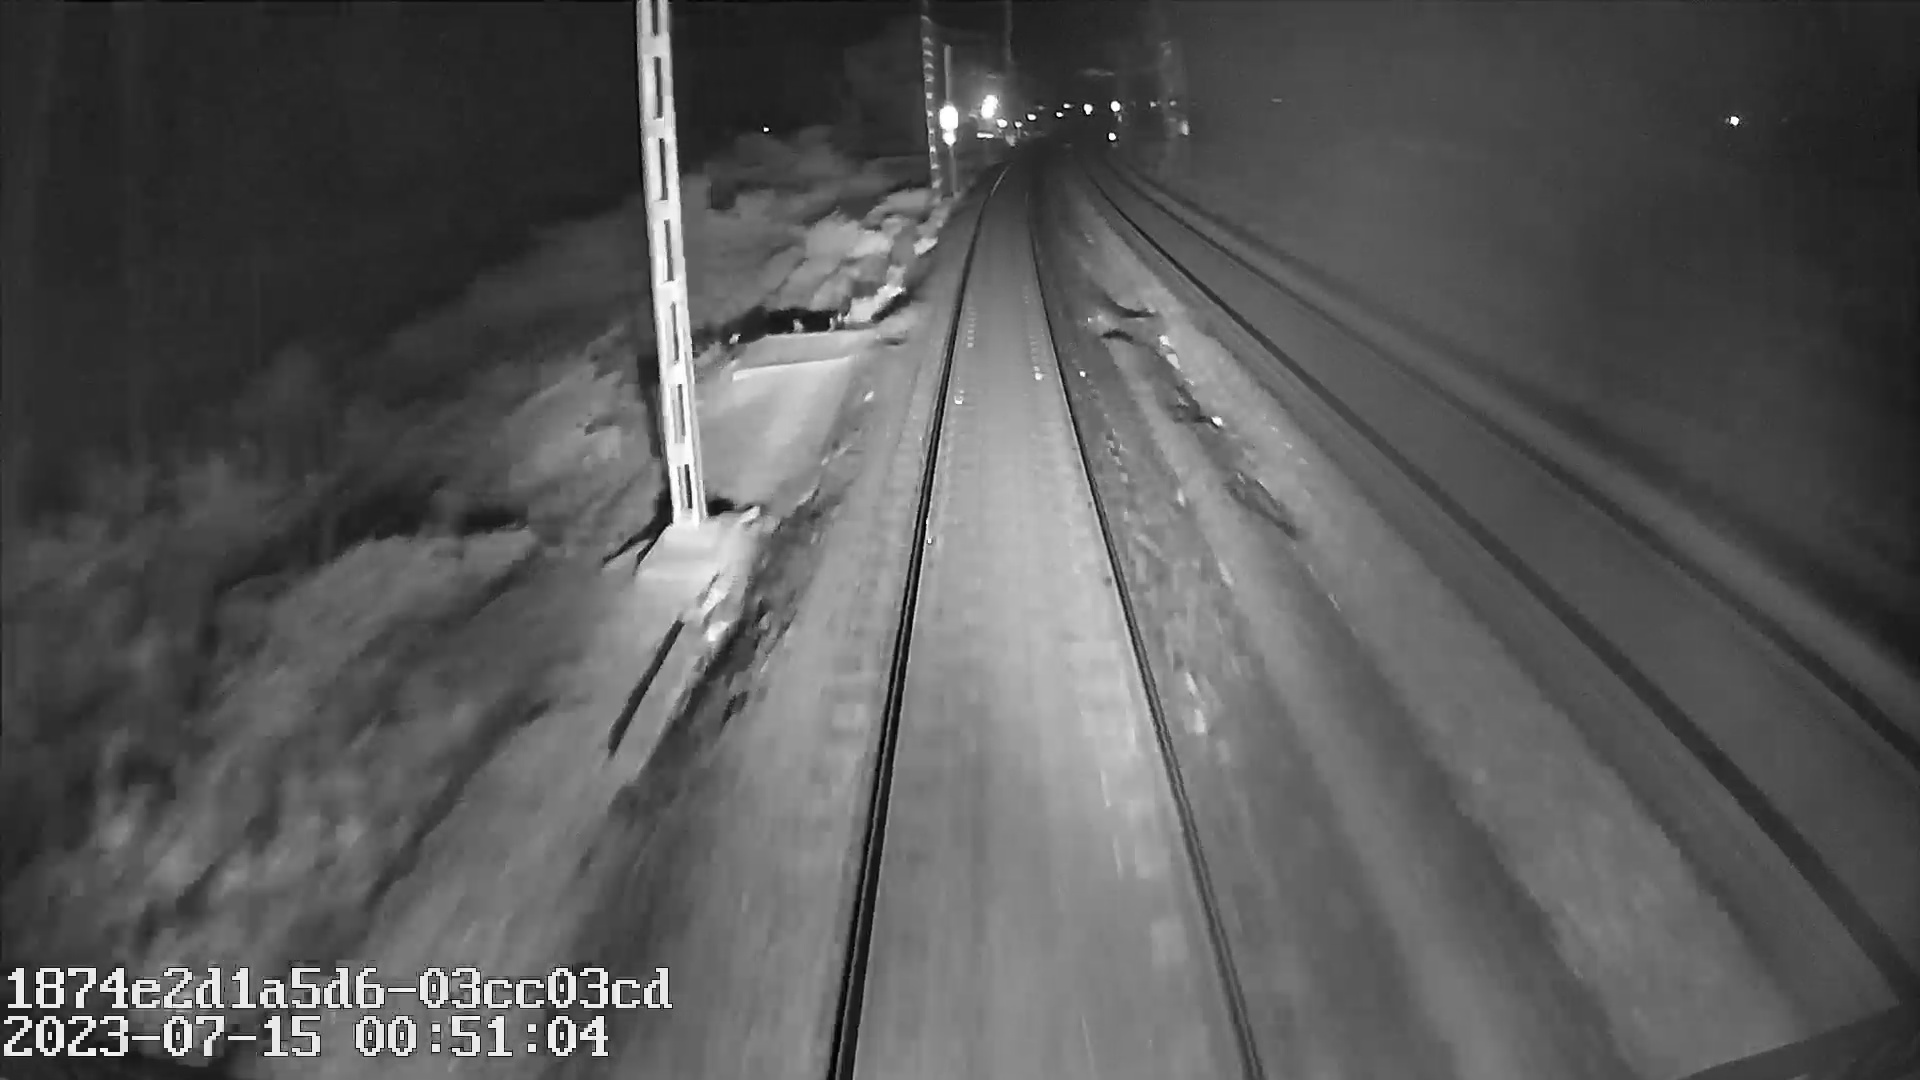track1: (843, 222, 1247, 1060)
track2: (1127, 206, 1903, 845)
